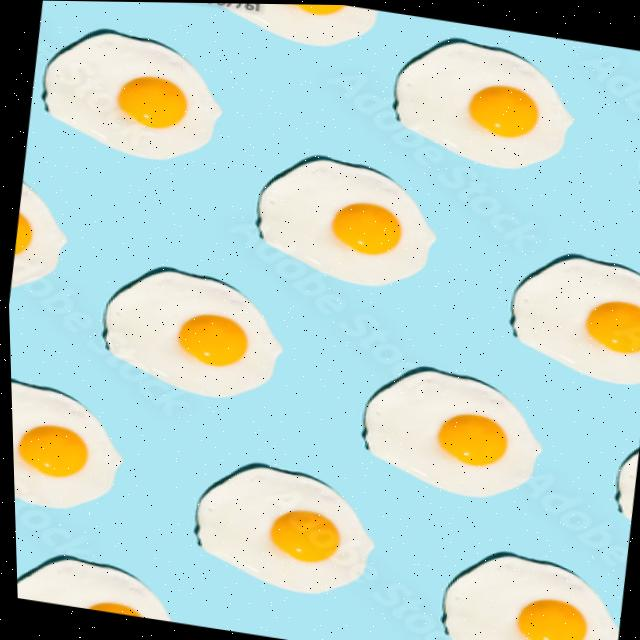Egg: (256, 158, 434, 285), (394, 40, 571, 167), (44, 32, 221, 159), (361, 369, 538, 496), (103, 270, 278, 397), (193, 467, 368, 592), (510, 256, 640, 383), (440, 553, 615, 640), (9, 382, 119, 508), (14, 559, 166, 621), (215, 2, 376, 45), (9, 185, 65, 287)
